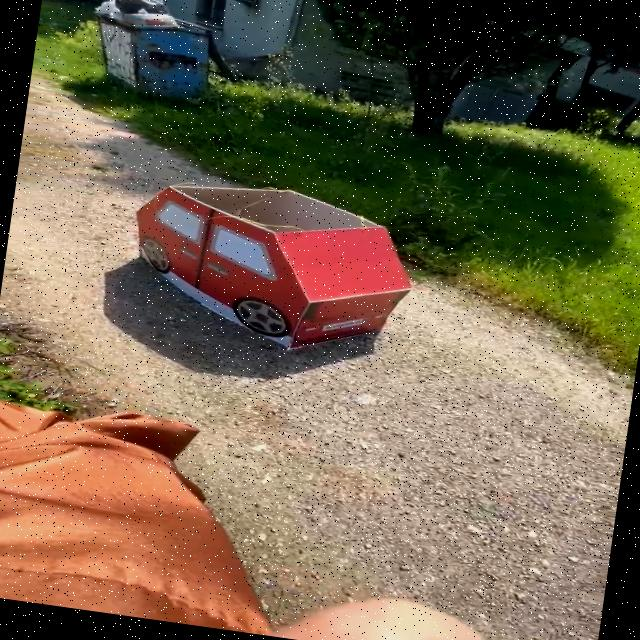red_car: (125, 157, 442, 387)
